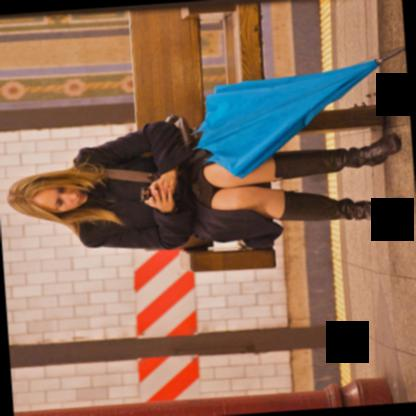handbag: (105, 111, 196, 183)
